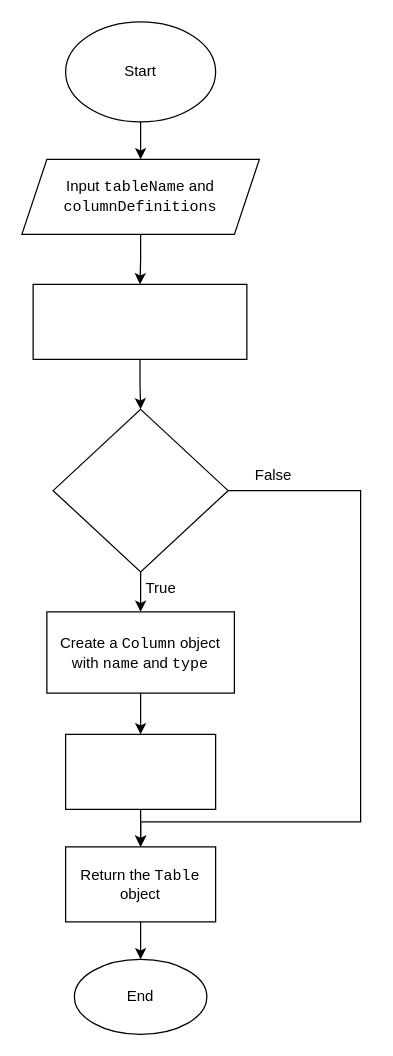
The diagram is 393 pixels wide and 1056 high, and some of its shapes have lost their labels. The shapes that lost their labels are listed below. From the top down, each one's box as (x1, y1, x2, y2) in pixels, then its label:
(32, 283, 247, 359): Create a new Table object with tableName
(52, 408, 228, 572): More columns to process?
(64, 733, 216, 809): Add the Column to table.columns
